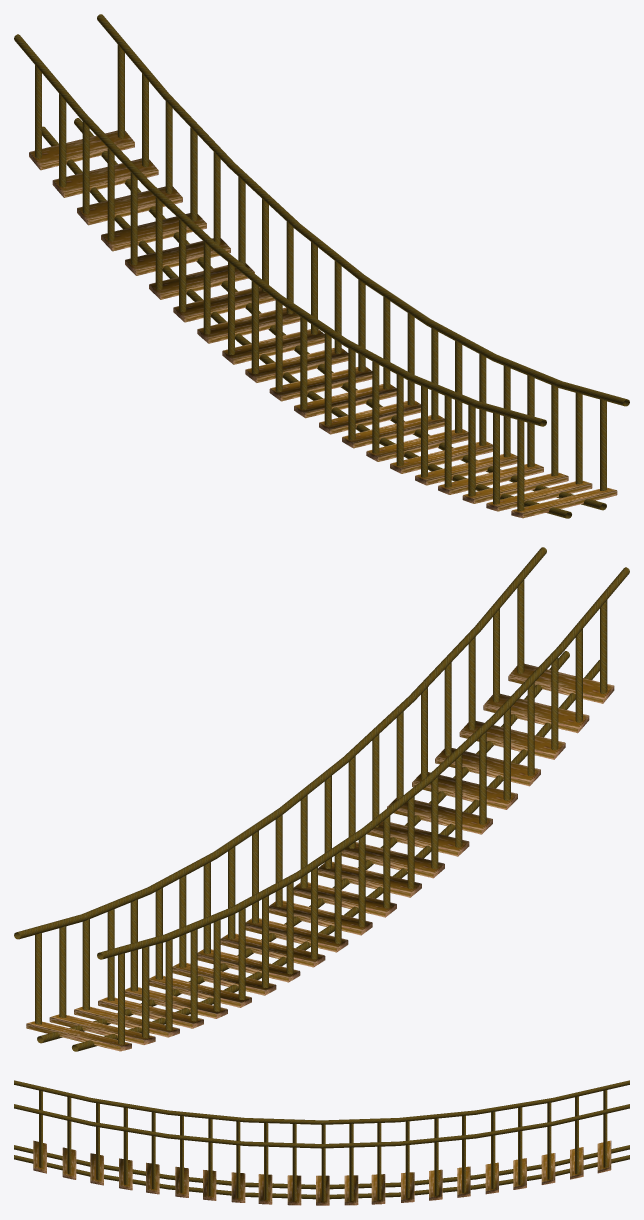
File: Bridge.FBX
The picture shows the model from 3 angles, top to bottom: view 1: azimuth 30°, elevation 25°; view 2: azimuth 150°, elevation 25°; view 3: azimuth 270°, elevation 25°; orthographic projection. The views are drawn at different scales.
Visible parts, largest first — view 1: Cylinder061; view 2: Cylinder061; view 3: Cylinder061.
Part boxes in pixels (x1,y1,x2,y2): Cylinder061: (14,14,629,518); Cylinder061: (14,547,629,1051); Cylinder061: (14,1080,629,1205).
Size of the model in its own units: 340 by 593 by 3259.
